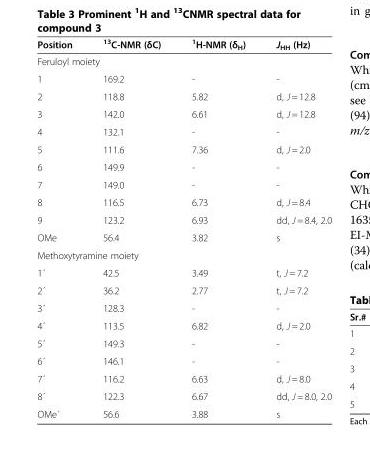table: (36, 36, 331, 419)
table column: (86, 36, 175, 419), (175, 36, 260, 419), (260, 36, 331, 419), (36, 36, 86, 419)
table column header: (36, 36, 331, 52)
table projected row header: (36, 52, 331, 69), (36, 246, 331, 263)
table row: (36, 69, 331, 87), (36, 104, 331, 122), (36, 122, 331, 140), (36, 157, 331, 175), (36, 175, 331, 193), (36, 210, 331, 228), (36, 228, 331, 246), (36, 263, 331, 281), (36, 298, 331, 316), (36, 316, 331, 334), (36, 351, 331, 369), (36, 369, 331, 387), (36, 52, 331, 69), (36, 87, 331, 104), (36, 140, 331, 157), (36, 193, 331, 210), (36, 246, 331, 263), (36, 281, 331, 298), (36, 334, 331, 351), (36, 387, 331, 404), (36, 36, 331, 52), (36, 404, 331, 419)
